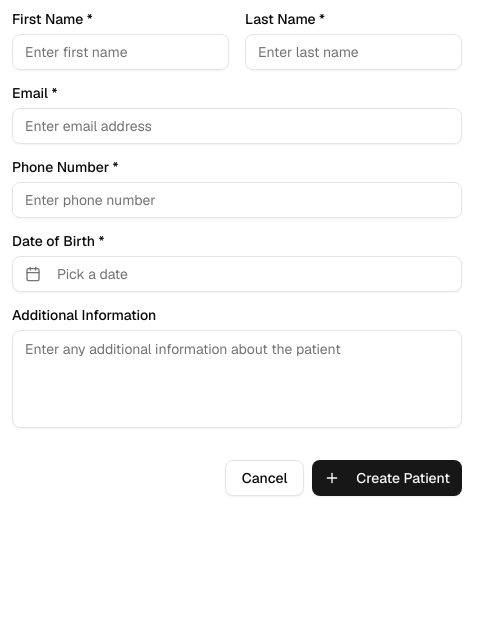
Test: CreatePatientForm › Form Validation - Required Fields › shows validation errors for empty required fields
Click the button "Create Patient". click: (387, 478)
box: [312,460,462,496]
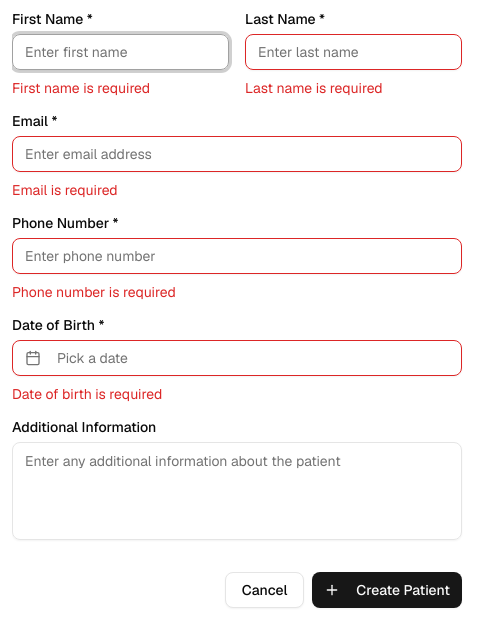
Result: the text "First name is required" is shown at [12,79,150,97]
Result: the text "Last name is required" is shown at [245,79,383,97]
Result: the text "Email is required" is shown at [12,181,118,199]
